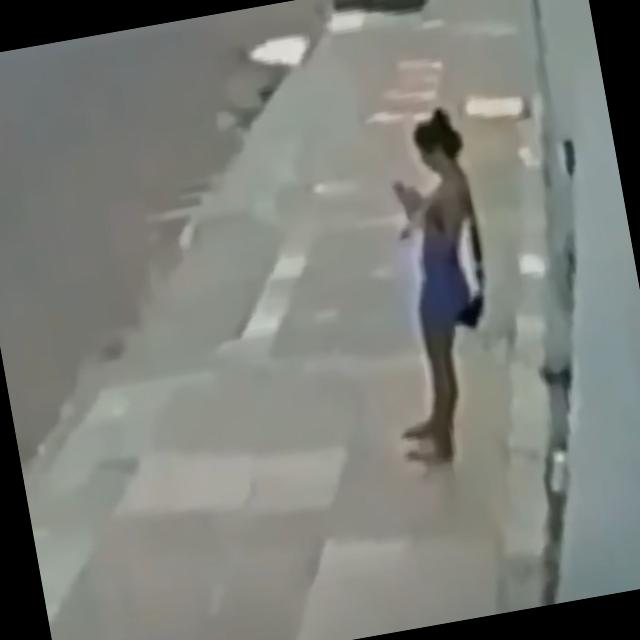person: (347, 102, 522, 468)
